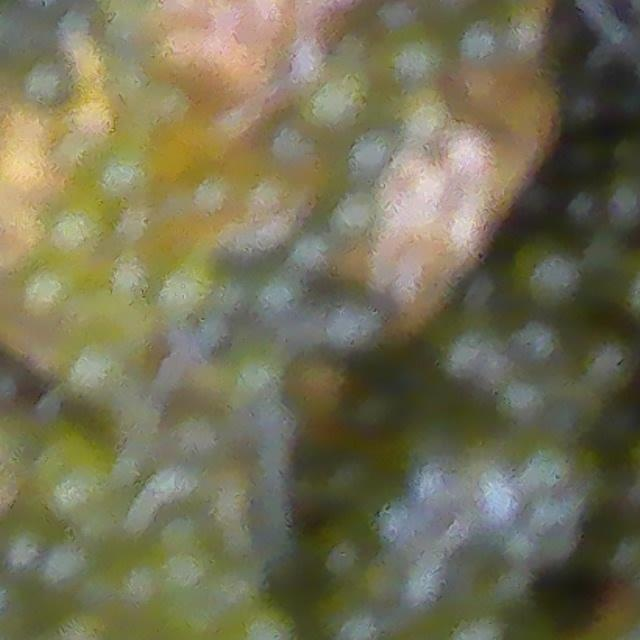SeaGrape: (27, 424, 124, 524), (25, 261, 102, 332), (91, 144, 168, 211), (42, 193, 110, 266)
